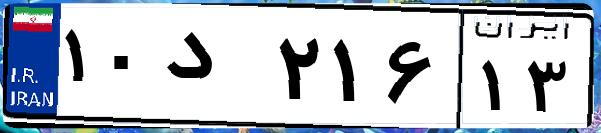0: (110, 28, 158, 98)
1: (330, 28, 385, 110), (57, 26, 110, 100), (475, 38, 525, 113)
2: (270, 28, 330, 110)
3: (525, 38, 570, 115)
6: (385, 28, 445, 110)
د: (158, 20, 270, 120)
